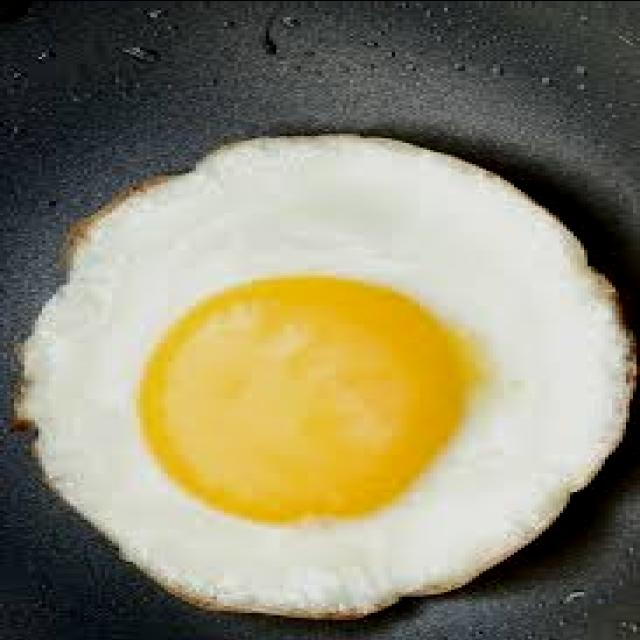telur ceplok: (17, 130, 633, 619)
